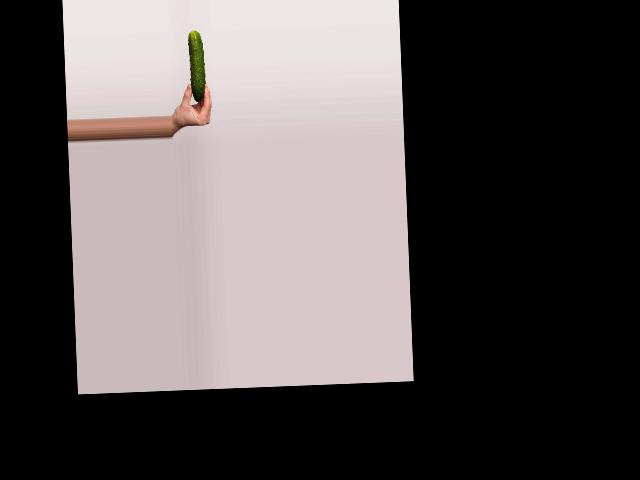cucumber: (188, 30, 205, 102)
